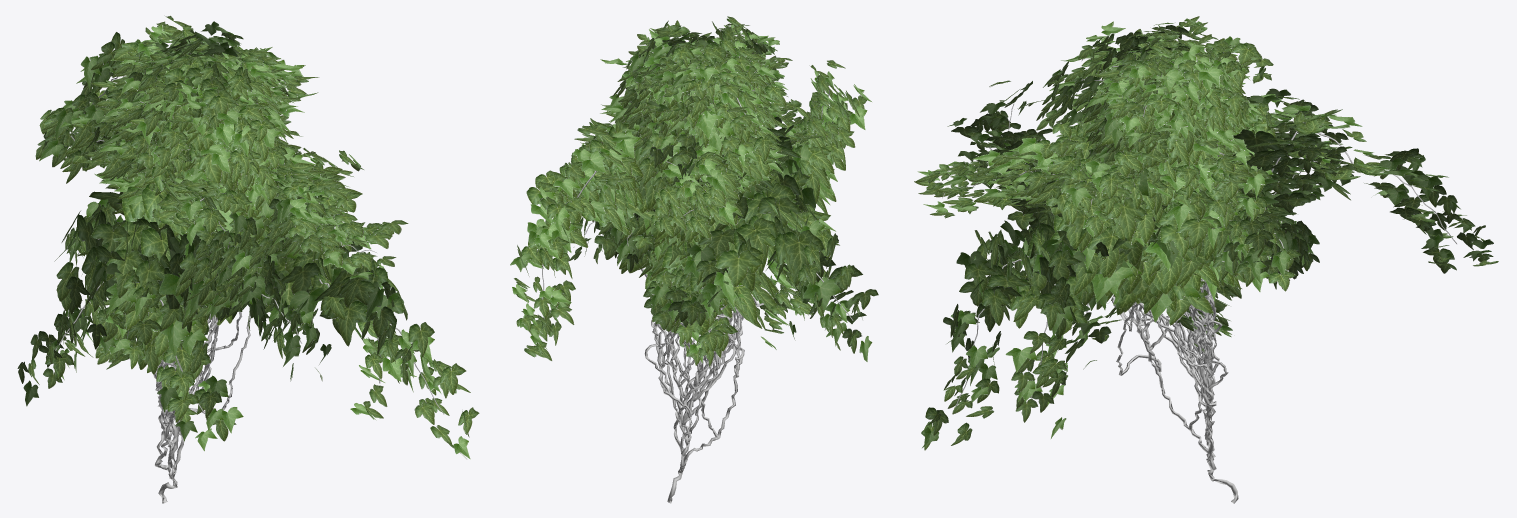
Rendered from IVYStyAndTelegraphPole01d.fbx.
The picture shows the model from 3 angles, left to right: view 1: azimuth 30°, elevation 25°; view 2: azimuth 150°, elevation 25°; view 3: azimuth 270°, elevation 25°; orthographic projection. The views are drawn at different scales.
Visible parts, largest first — view 1: default; view 2: default; view 3: default.
Boxes of the visible parts, x1,y1,x2,y2 form: default: [17, 15, 479, 503]; default: [510, 16, 878, 503]; default: [914, 16, 1498, 503].
Bounding box in the file's own units: 223 × 298 × 342.
